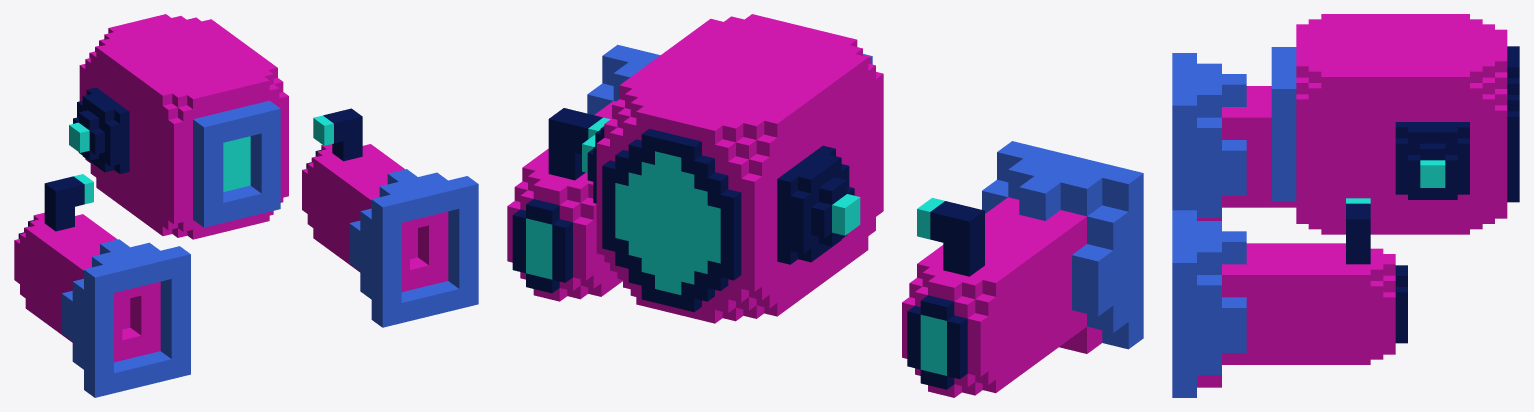
The model's file is Character_Model.obj.
3 renders of one model, left to right at view 1: azimuth 30°, elevation 25°; view 2: azimuth 150°, elevation 25°; view 3: azimuth 270°, elevation 25°, orthographic. The views are drawn at different scales.
Size of the model in its own units: 4 by 2.2 by 2.8.
1 material, 1 textured.
